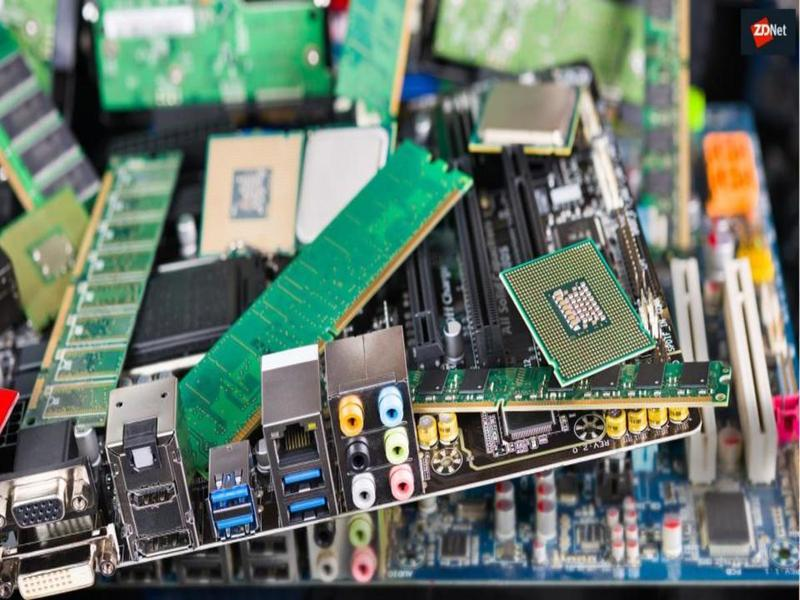circuit_board: (7, 65, 731, 598), (168, 136, 474, 463), (494, 240, 662, 387)
